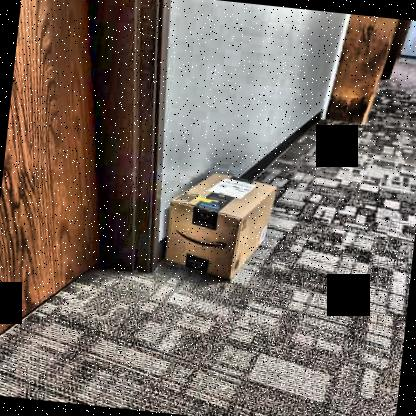no defect parcel: (154, 160, 289, 288)
